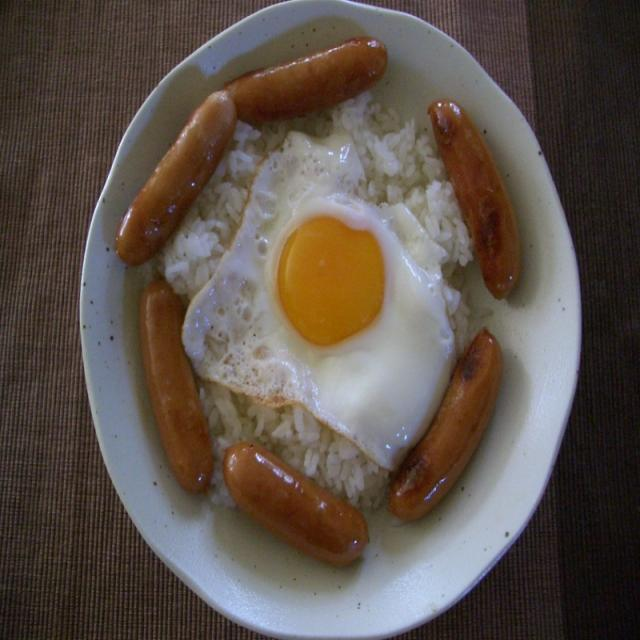Egg: (172, 133, 456, 470)
